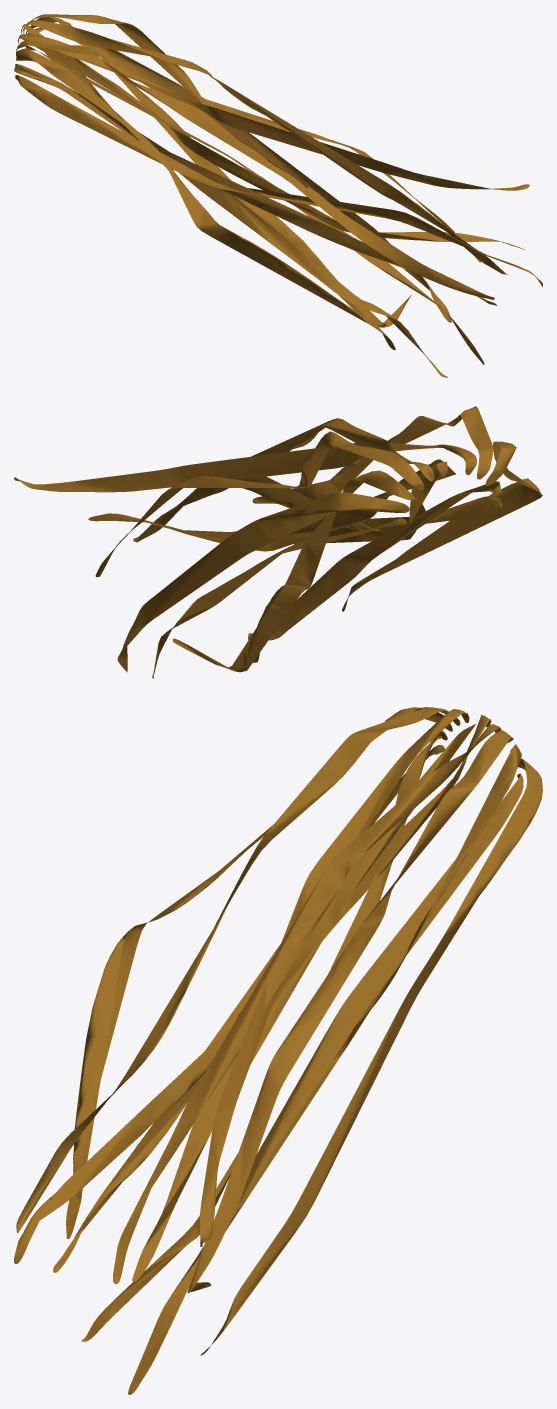
File: Blades03.fbx
The picture shows the model from 3 angles, top to bottom: view 1: azimuth 30°, elevation 25°; view 2: azimuth 150°, elevation 25°; view 3: azimuth 270°, elevation 25°; orthographic projection. The views are drawn at different scales.
Parts seen in each view (by area): view 1: polySurface100, polySurface101, polySurface96, polySurface103, polySurface102, polySurface99, polySurface98, polySurface93, polySurface97, polySurface94, polySurface95, polySurface92; view 2: polySurface93, polySurface99, polySurface94, polySurface102, polySurface101, polySurface95, polySurface100, polySurface96, polySurface98, polySurface103, polySurface92, polySurface97; view 3: polySurface95, polySurface92, polySurface96, polySurface93, polySurface99, polySurface98, polySurface100, polySurface101, polySurface103, polySurface97, polySurface102, polySurface94.
Boxes of the visible parts, x1,y1,x2,y2 form: polySurface100: [16, 40, 494, 299]; polySurface101: [16, 48, 395, 350]; polySurface96: [22, 20, 507, 274]; polySurface103: [15, 75, 542, 286]; polySurface102: [14, 64, 447, 377]; polySurface99: [17, 34, 529, 190]; polySurface98: [21, 36, 525, 249]; polySurface93: [27, 27, 451, 322]; polySurface97: [21, 24, 497, 305]; polySurface94: [25, 17, 411, 327]; polySurface95: [23, 14, 480, 262]; polySurface92: [25, 46, 484, 364]; polySurface93: [117, 492, 409, 672]; polySurface99: [14, 443, 476, 492]; polySurface94: [172, 470, 415, 672]; polySurface102: [248, 481, 502, 662]; polySurface101: [342, 441, 542, 611]; polySurface95: [95, 431, 424, 577]; polySurface100: [252, 406, 493, 503]; polySurface96: [133, 418, 434, 542]; polySurface98: [88, 459, 455, 551]; polySurface103: [242, 476, 502, 530]; polySurface92: [152, 518, 406, 678]; polySurface97: [213, 461, 447, 544]; polySurface95: [187, 730, 513, 1293]; polySurface92: [128, 773, 523, 1394]; polySurface96: [113, 724, 501, 1284]; polySurface93: [200, 758, 542, 1355]; polySurface99: [199, 709, 469, 1246]; polySurface98: [132, 724, 475, 1282]; polySurface100: [16, 707, 460, 1232]; polySurface101: [66, 707, 452, 1238]; polySurface103: [14, 745, 444, 1263]; polySurface97: [53, 714, 491, 1272]; polySurface102: [81, 730, 447, 1341]; polySurface94: [191, 744, 521, 1291].
Bounding box in the file's own units: 1.76 × 1.28 × 1.35.
